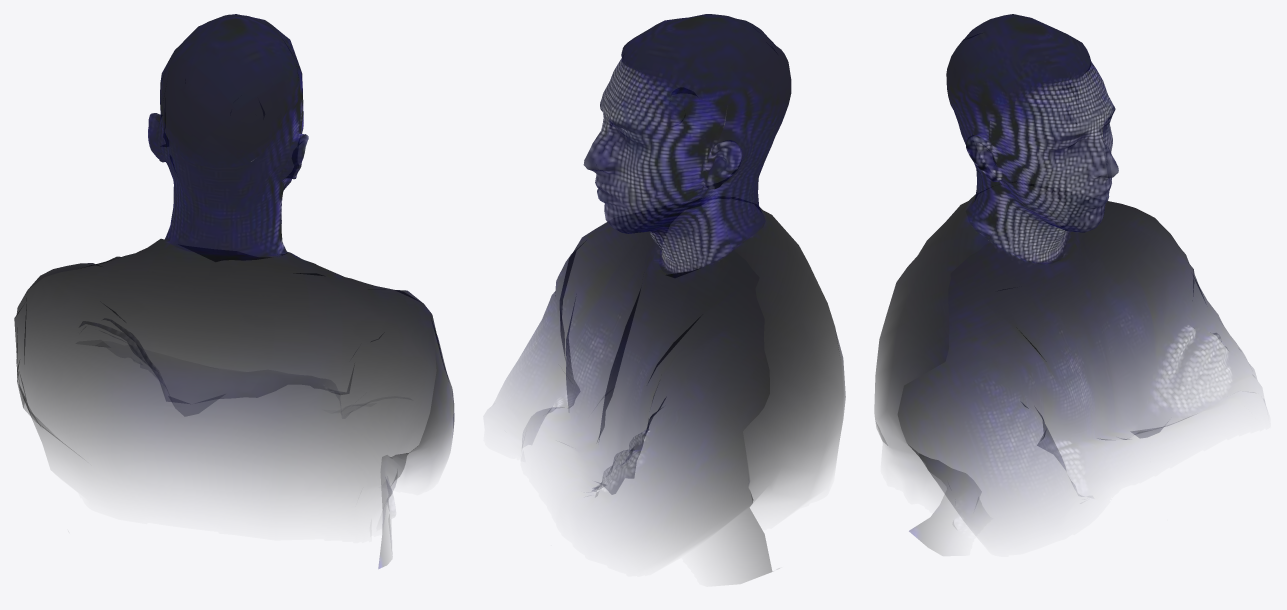
File: Giovanni_V1_Hologram_optimized.glb
3 views of the same model, side by side, from view 1: azimuth 30°, elevation 25°; view 2: azimuth 150°, elevation 25°; view 3: azimuth 270°, elevation 25° (orthographic). The views are drawn at different scales.
Parts seen in each view (by area): view 1: Giovanni_Hologram_Ex; view 2: Giovanni_Hologram_Ex; view 3: Giovanni_Hologram_Ex.
Boxes of the visible parts, bbox=[...] form: Giovanni_Hologram_Ex: bbox=[14, 14, 454, 568]; Giovanni_Hologram_Ex: bbox=[499, 14, 845, 583]; Giovanni_Hologram_Ex: bbox=[874, 14, 1264, 553].
Size of the model in its own units: 70.7 by 97.06 by 72.34.
Materials: 1 (1 with a texture image).
